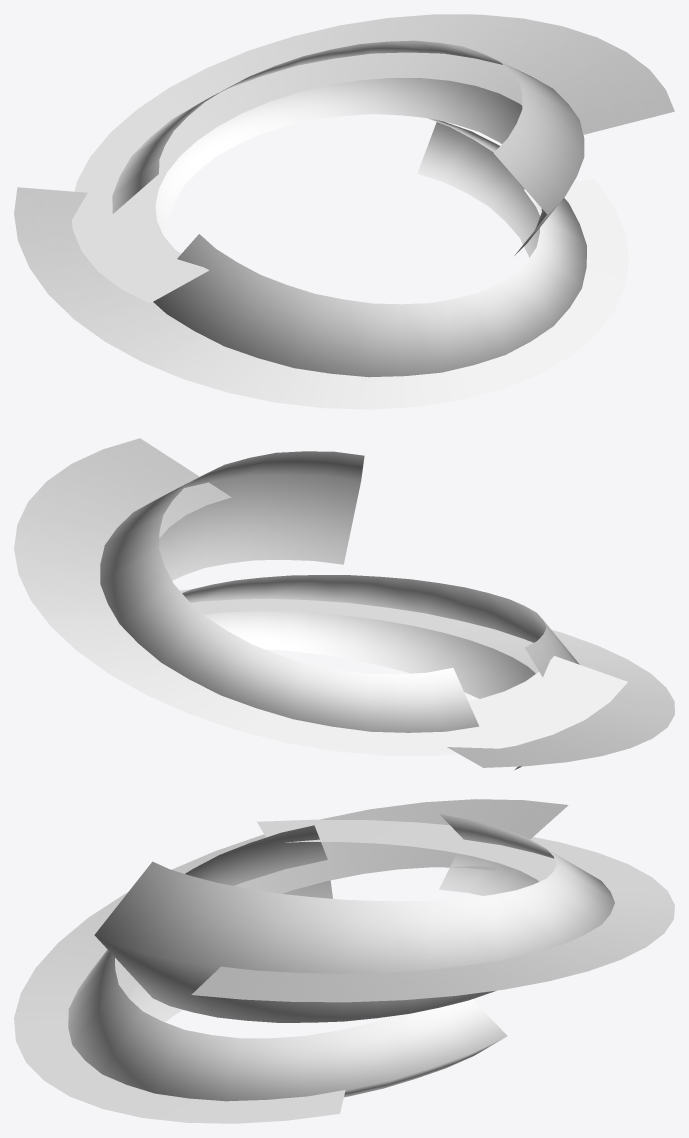
The model's file is eff_enem_MA_Duon_SpinAttack1_M.obj.
3 views of the same model, one above another, from view 1: azimuth 30°, elevation 25°; view 2: azimuth 150°, elevation 25°; view 3: azimuth 270°, elevation 25° (orthographic). The views are drawn at different scales.
Parts seen in each view (by area): view 1: polygon3, polygon0, polygon1, polygon2; view 2: polygon2, polygon3, polygon0, polygon1; view 3: polygon2, polygon0, polygon1, polygon3.
Part boxes in pixels (x1,y1,x2,y2): polygon3: [72, 14, 674, 303]; polygon0: [153, 117, 586, 377]; polygon1: [14, 179, 628, 409]; polygon2: [112, 40, 584, 255]; polygon2: [100, 451, 479, 732]; polygon3: [14, 438, 627, 756]; polygon0: [182, 575, 579, 769]; polygon1: [180, 589, 674, 767]; polygon2: [94, 814, 614, 1022]; polygon0: [68, 825, 507, 1101]; polygon1: [14, 799, 568, 1123]; polygon3: [191, 819, 674, 1002].
Bounding box in the file's own units: 95.73 × 35.64 × 83.73.
2 materials, 2 textured.
